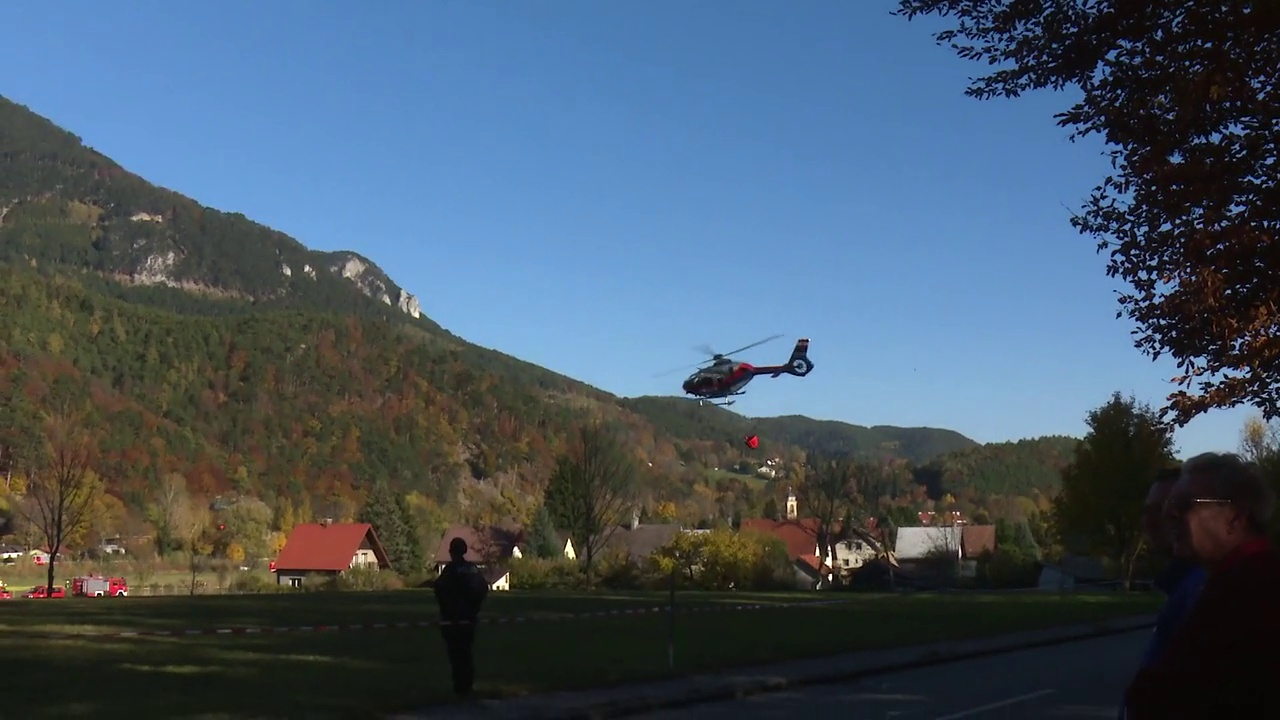heli: (680, 336, 813, 408)
